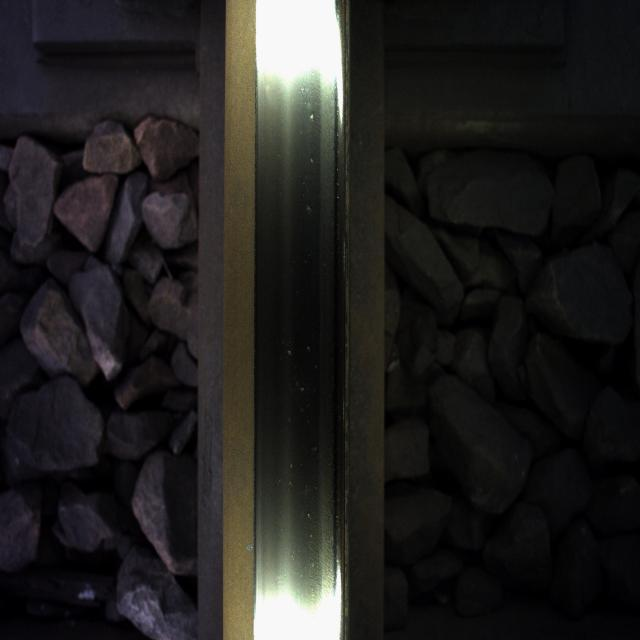break: (260, 95, 332, 610)
